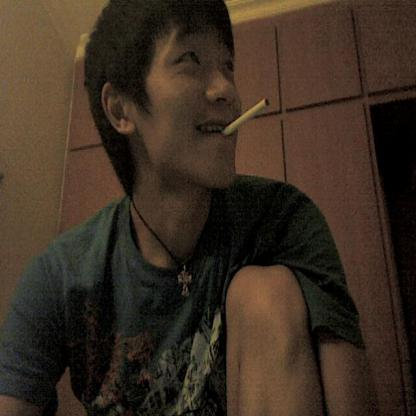smoking: (222, 99, 270, 138)
